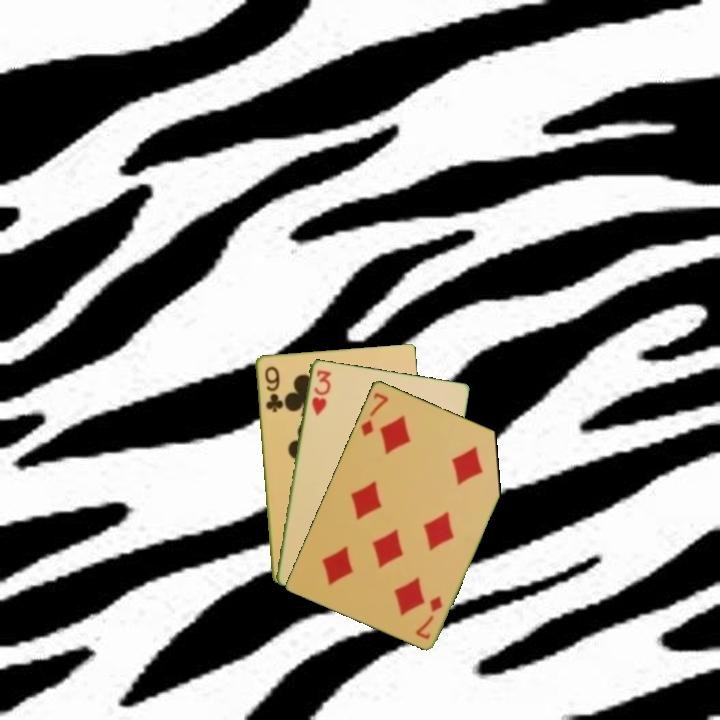3h: (308, 366, 334, 418)
7d: (357, 388, 391, 439), (412, 592, 445, 642)
9c: (261, 363, 283, 415)
